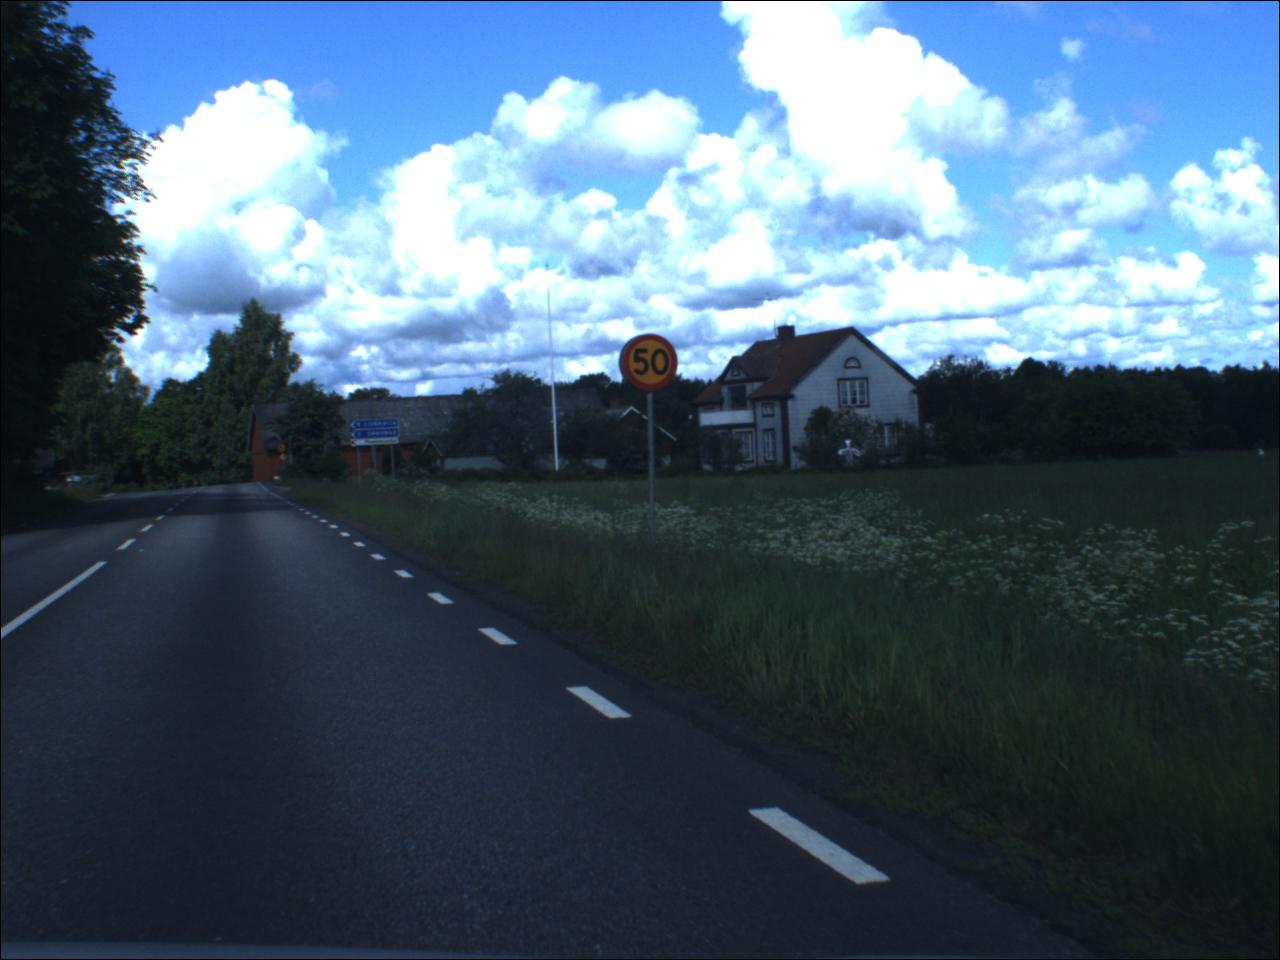50_SIGN: (620, 332, 684, 392), (280, 445, 291, 456)
PRIORITY_ROAD: (280, 455, 290, 464)
